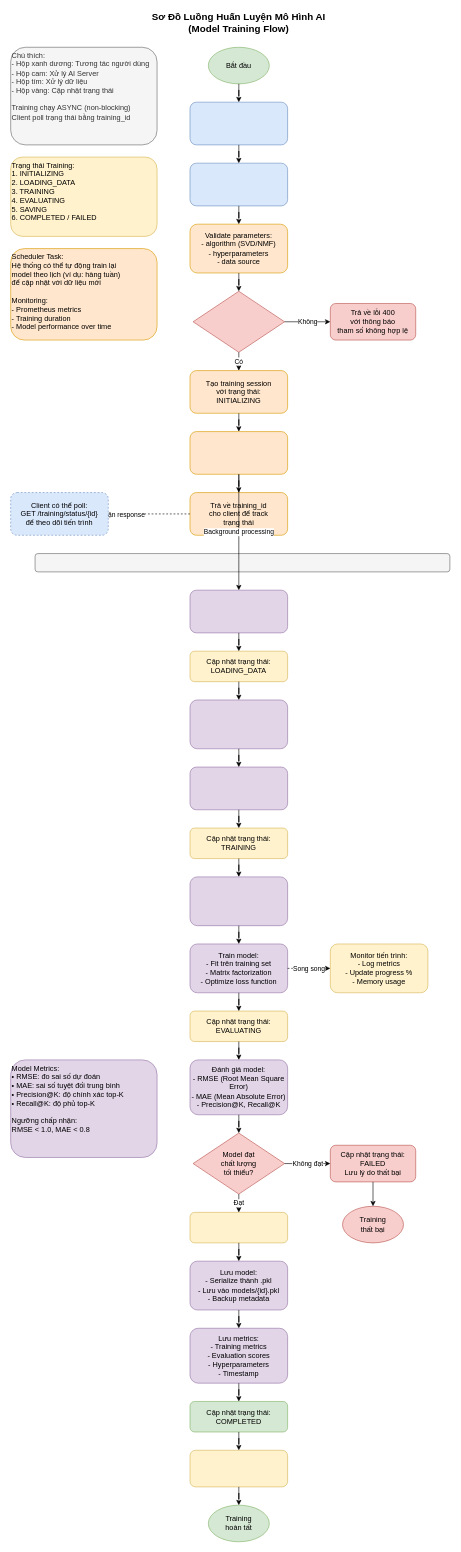
The diagram is 461 pixels wide and 1552 high, and some of its shapes have lost their labels. The centre of each missing label's shape, as x and y in pixels:
"Admin/User yêu cầu train model mới (algorithm, parameters)" belongs at point 238,123.
"Chia dữ liệu: - Training set (80%) - Test set (20%)" belongs at point 238,788.
"Chạy training task trong background thread (non-blocking)" belongs at point 238,452.
"Cập nhật trạng thái: SAVING" belongs at point 238,1227.
"Giải phóng bộ nhớ: - Clear training data - Release model cache" belongs at point 238,1468.
"Gọi POST /api/v1/train với config training" belongs at point 238,184.
"Khởi tạo model: - SVDModel hoặc - NMFModel với hyperparameters" belongs at point 238,901.
"Load dữ liệu training từ DataChefService (ratings, interactions)" belongs at point 238,611.
"Làm sạch dữ liệu: - Remove duplicates - Handle missing values - Validate ranges" belongs at point 238,724.
"Tham số hợp lệ?" belongs at point 238,321.
"⚡ XỬ LÝ BACKGROUND SONG SONG ⚡" belongs at point 242,562.
